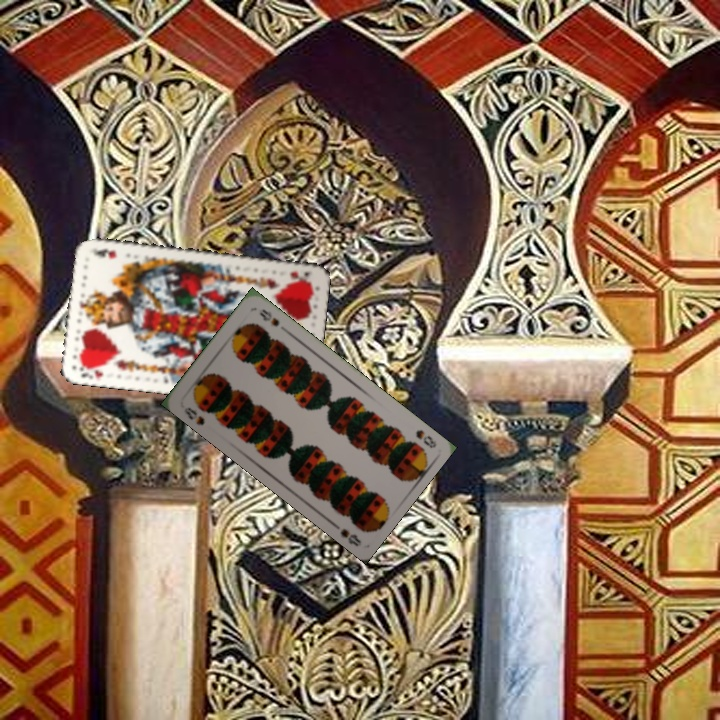HK: (75, 360, 106, 382), (285, 267, 314, 284)
S8: (412, 425, 439, 451), (180, 403, 207, 428)
